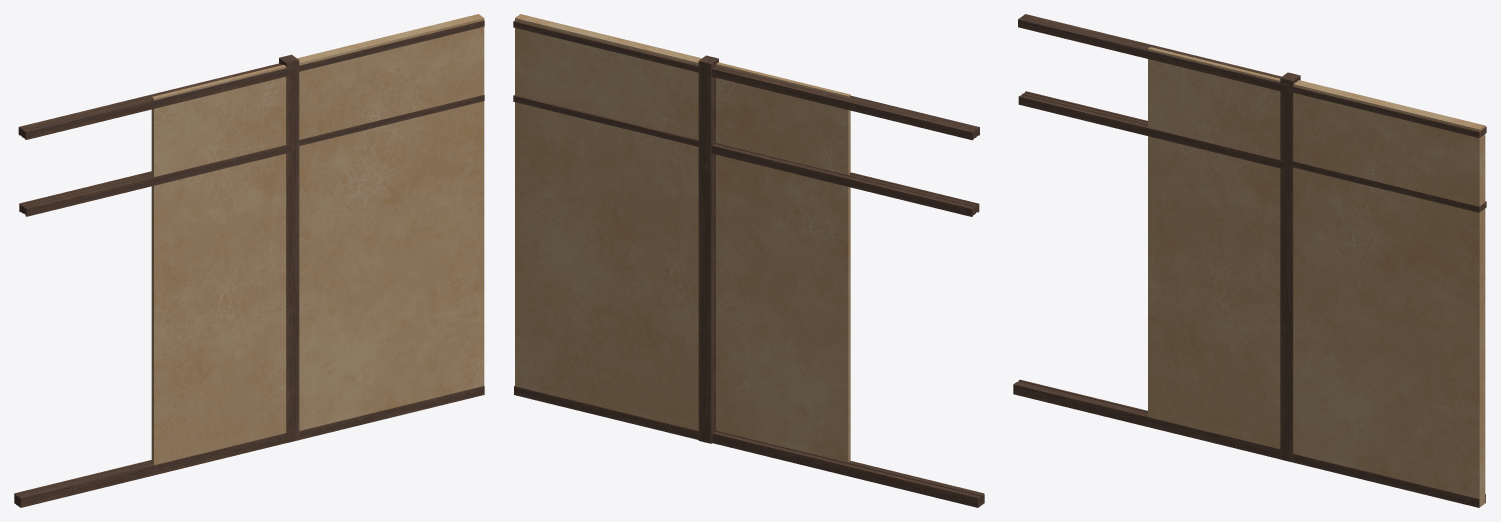
File: inwall_to_45t05.fbx
3 views of the same model, side by side, from view 1: azimuth 30°, elevation 25°; view 2: azimuth 150°, elevation 25°; view 3: azimuth 330°, elevation 25° (orthographic).
Parts seen in each view (by area): view 1: inwall_to_45t05; view 2: inwall_to_45t05; view 3: inwall_to_45t05.
Part boxes in pixels (bbox=[...]): inwall_to_45t05: bbox=[14, 14, 484, 507]; inwall_to_45t05: bbox=[513, 14, 984, 507]; inwall_to_45t05: bbox=[1013, 14, 1486, 507].
Bounding box in the file's own units: 378 × 296 × 11.13.
